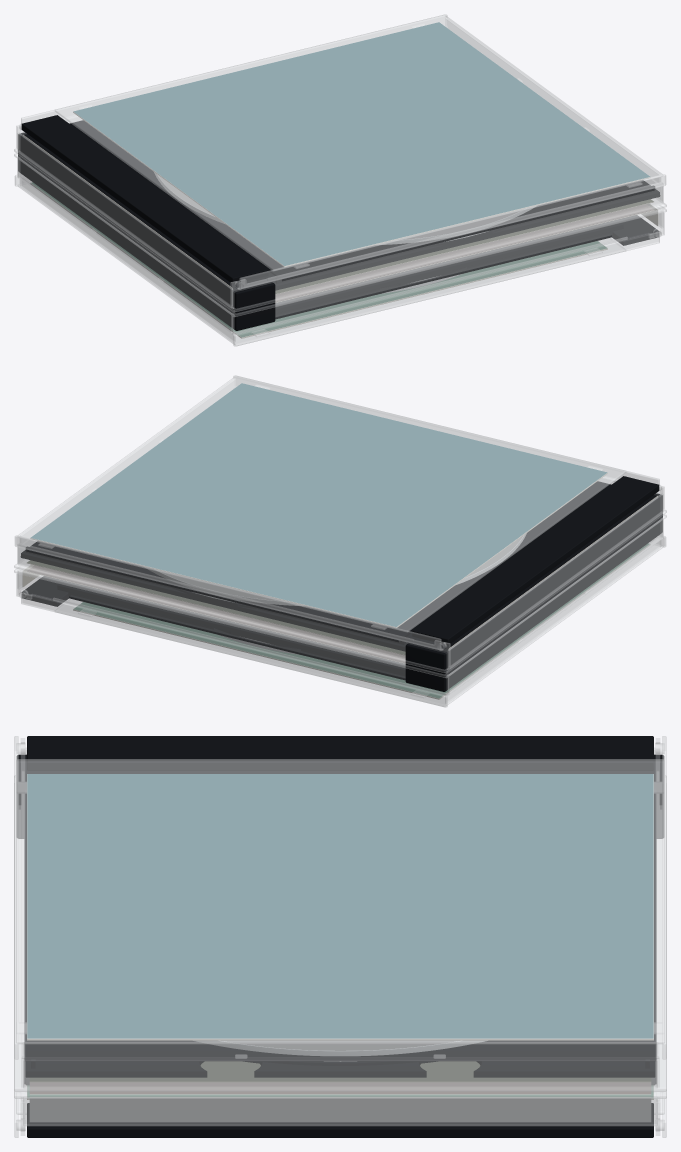
File: jewel-fat.glb
3 renders of one model, top to bottom at view 1: azimuth 30°, elevation 25°; view 2: azimuth 150°, elevation 25°; view 3: azimuth 270°, elevation 25°, orthographic. The views are drawn at different scales.
Parts seen in each view (by area): view 1: Lid_Hinge_Y__Polystyrene_Clear.003, Booklet_paper, Fixed_Base_And_Tray__Polystyrene_Clear.003, Fixed_Base_And_Tray__Polystyrene_Clear.003_rear, Central_fatbox_spine, Fixed_spine_foundation, Lid_Hinge_Y__Polystyrene_Clear.003_rear, Double_sided_swing_frame, Booklet_paper_rear, Fixed_Base_And_Tray__Tray_Graphite.006_rear, Fixed_Base_And_Tray__Tray_Graphite.006, Rear_card_rear (+5 smaller); view 2: Lid_Hinge_Y__Polystyrene_Clear.003, Booklet_paper, Fixed_Base_And_Tray__Polystyrene_Clear.003, Fixed_Base_And_Tray__Polystyrene_Clear.003_rear, Central_fatbox_spine, Fixed_spine_foundation, Lid_Hinge_Y__Polystyrene_Clear.003_rear, Double_sided_swing_frame, Booklet_paper_rear, Fixed_Base_And_Tray__Tray_Graphite.006_rear, Rear_card_rear, Fixed_Base_And_Tray__Tray_Graphite.006 (+5 smaller); view 3: Lid_Hinge_Y__Polystyrene_Clear.003, Booklet_paper, Fixed_Base_And_Tray__Polystyrene_Clear.003, Fixed_Base_And_Tray__Polystyrene_Clear.003_rear, Fixed_spine_foundation, Spine_card_return_rear, Double_sided_swing_frame, Fixed_spine_foundation_rear, Fixed_Base_And_Tray__Tray_Graphite.006, Rear_card_rear, Rear_card, CD_reflective_ring (+3 smaller).
Boxes of the visible parts, x1=… form: Lid_Hinge_Y__Polystyrene_Clear.003: x1=19, y1=14, x2=666, y2=289; Booklet_paper: x1=73, y1=22, x2=650, y2=266; Fixed_Base_And_Tray__Polystyrene_Clear.003: x1=14, y1=116, x2=666, y2=312; Fixed_Base_And_Tray__Polystyrene_Clear.003_rear: x1=14, y1=153, x2=666, y2=335; Central_fatbox_spine: x1=18, y1=132, x2=275, y2=330; Fixed_spine_foundation: x1=21, y1=115, x2=268, y2=284; Lid_Hinge_Y__Polystyrene_Clear.003_rear: x1=14, y1=175, x2=661, y2=346; Double_sided_swing_frame: x1=69, y1=120, x2=654, y2=281; Booklet_paper_rear: x1=30, y1=182, x2=607, y2=338; Fixed_Base_And_Tray__Tray_Graphite.006_rear: x1=99, y1=220, x2=623, y2=319; Fixed_Base_And_Tray__Tray_Graphite.006: x1=265, y1=180, x2=660, y2=290; Rear_card_rear: x1=275, y1=204, x2=653, y2=302; Lid_Hinge_Y__Polystyrene_Clear.003: x1=14, y1=375, x2=661, y2=650; Booklet_paper: x1=30, y1=383, x2=607, y2=627; Fixed_Base_And_Tray__Polystyrene_Clear.003: x1=14, y1=477, x2=666, y2=673; Fixed_Base_And_Tray__Polystyrene_Clear.003_rear: x1=14, y1=514, x2=666, y2=696; Central_fatbox_spine: x1=405, y1=493, x2=662, y2=691; Fixed_spine_foundation: x1=412, y1=476, x2=659, y2=645; Lid_Hinge_Y__Polystyrene_Clear.003_rear: x1=19, y1=536, x2=666, y2=707; Double_sided_swing_frame: x1=26, y1=481, x2=611, y2=642; Booklet_paper_rear: x1=73, y1=543, x2=650, y2=699; Fixed_Base_And_Tray__Tray_Graphite.006_rear: x1=57, y1=526, x2=659, y2=676; Rear_card_rear: x1=27, y1=565, x2=405, y2=663; Fixed_Base_And_Tray__Tray_Graphite.006: x1=20, y1=541, x2=415, y2=651; Lid_Hinge_Y__Polystyrene_Clear.003: x1=14, y1=736, x2=666, y2=1059; Booklet_paper: x1=27, y1=774, x2=653, y2=1040; Fixed_Base_And_Tray__Polystyrene_Clear.003: x1=14, y1=738, x2=666, y2=1091; Fixed_Base_And_Tray__Polystyrene_Clear.003_rear: x1=14, y1=1044, x2=666, y2=1135; Fixed_spine_foundation: x1=27, y1=736, x2=653, y2=770; Spine_card_return_rear: x1=29, y1=1097, x2=651, y2=1122; Double_sided_swing_frame: x1=24, y1=790, x2=656, y2=1061; Fixed_spine_foundation_rear: x1=27, y1=1103, x2=653, y2=1137; Fixed_Base_And_Tray__Tray_Graphite.006: x1=25, y1=1059, x2=655, y2=1077; Rear_card_rear: x1=29, y1=1082, x2=651, y2=1094; Rear_card: x1=29, y1=1061, x2=651, y2=1082; CD_reflective_ring: x1=193, y1=1040, x2=487, y2=1056.
Bounding box in the file's own units: 0.142 × 0.0214 × 0.125.
